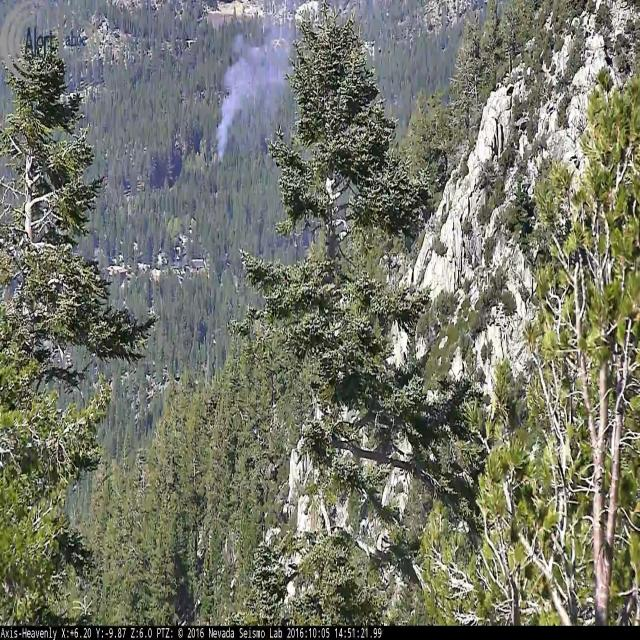smoke: (214, 15, 293, 162)
